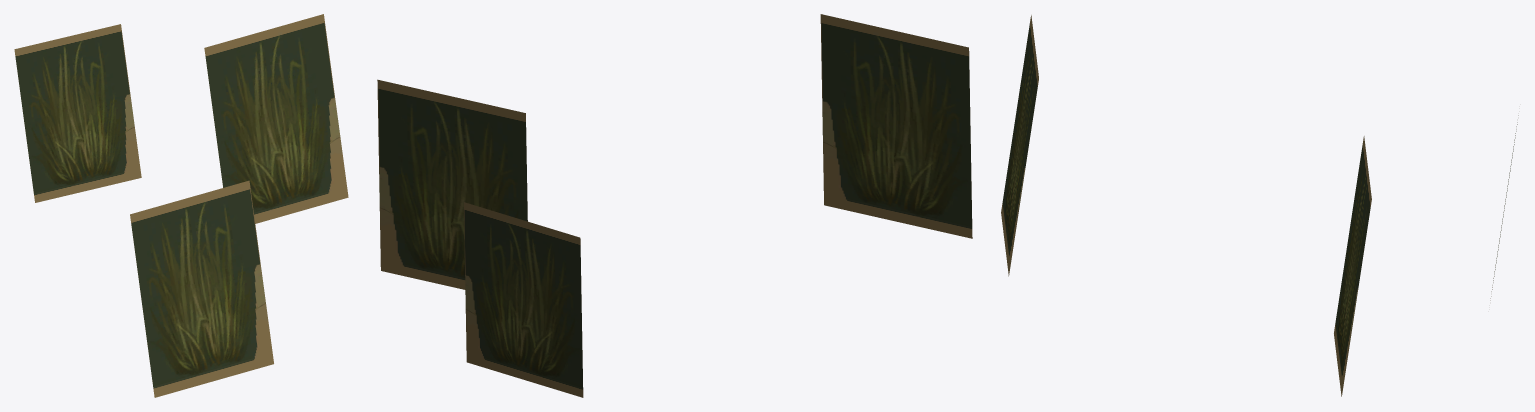
Rendered from object_grass_polys05.fbx.
3 renders of one model, left to right at view 1: azimuth 30°, elevation 25°; view 2: azimuth 150°, elevation 25°; view 3: azimuth 270°, elevation 25°, orthographic. The views are drawn at different scales.
Parts seen in each view (by area): view 1: obj0.062; view 2: obj0.062; view 3: obj0.062.
Boxes of the visible parts, bbox=[...] form: obj0.062: bbox=[14, 14, 348, 397]; obj0.062: bbox=[377, 14, 972, 397]; obj0.062: bbox=[1001, 15, 1518, 396].
Size of the model in its own units: 4.54 by 2.14 by 5.18.
